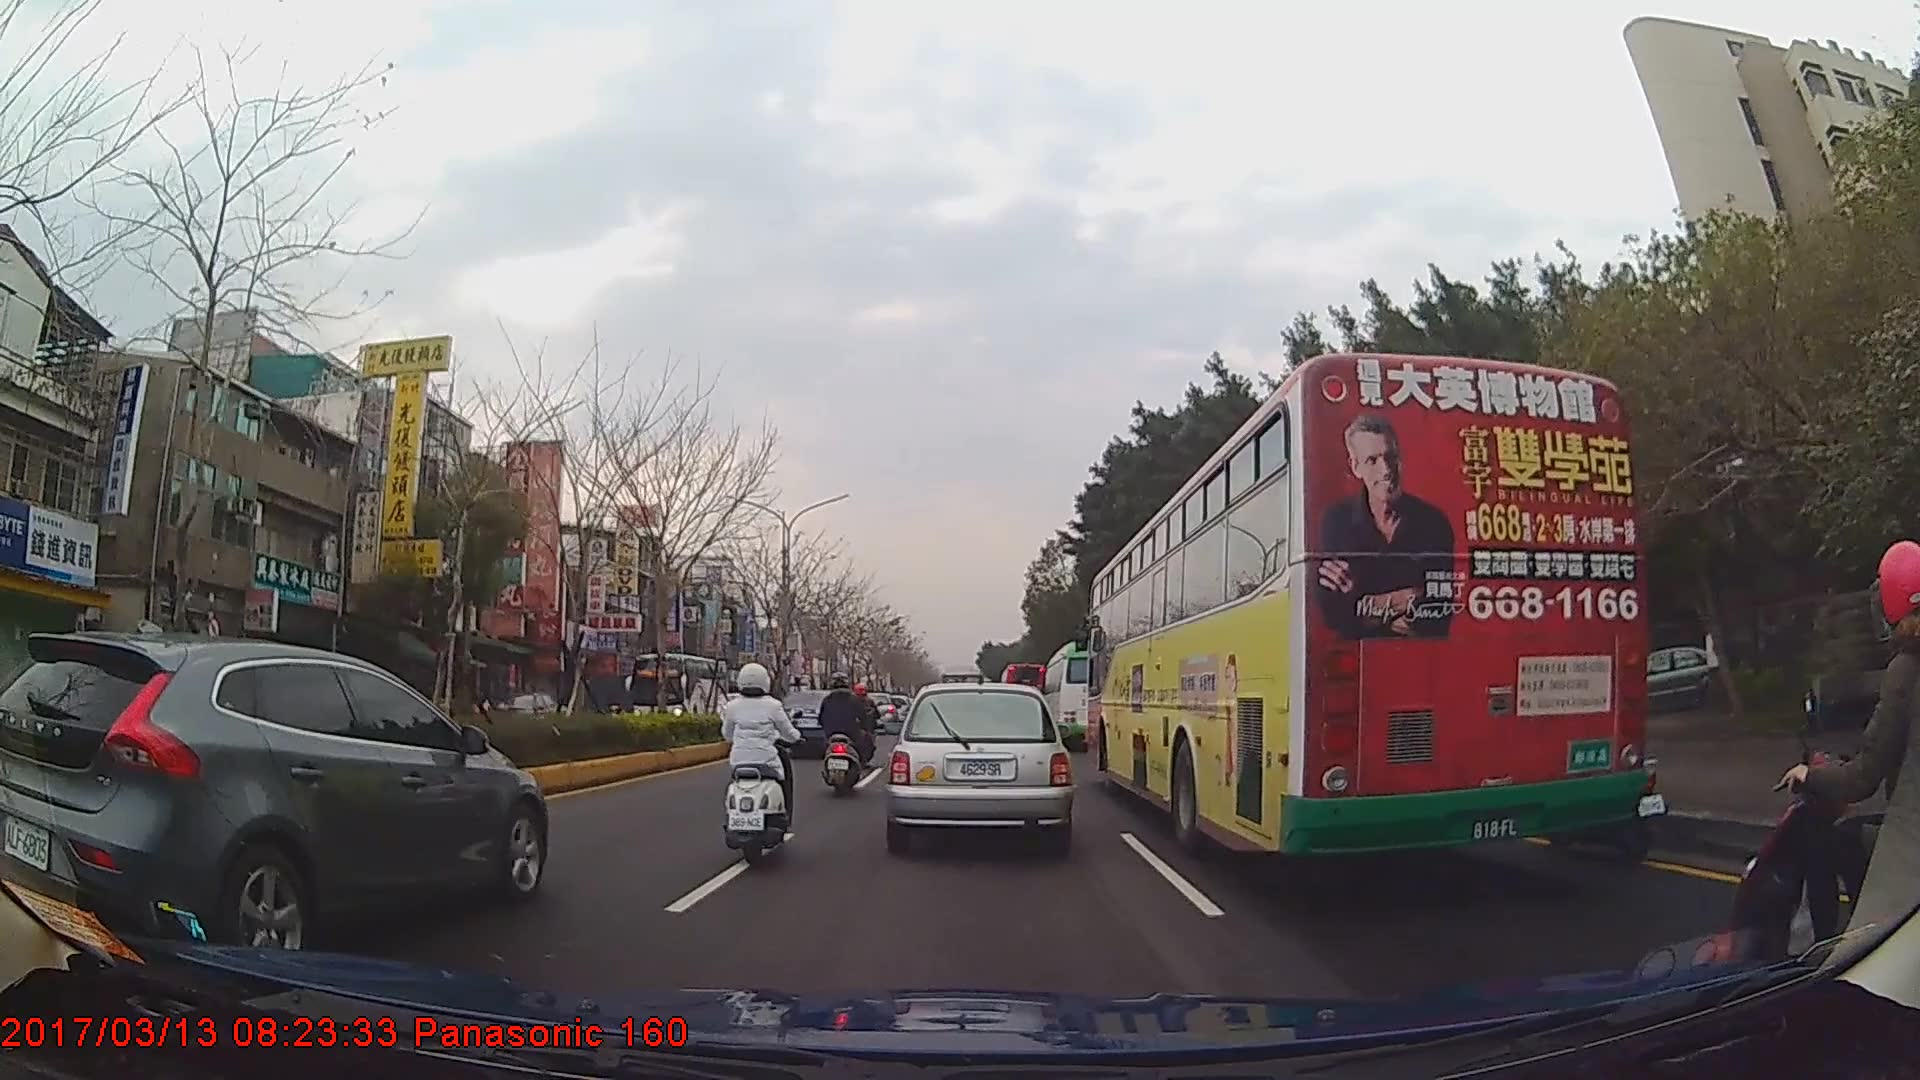rider: (1731, 541, 1920, 1004), (717, 659, 801, 863), (815, 675, 870, 797), (848, 679, 882, 767)
vehicle: (1089, 350, 1650, 863), (0, 630, 548, 968), (887, 679, 1071, 853), (1040, 639, 1119, 748), (626, 651, 728, 733), (774, 690, 868, 762), (483, 689, 567, 737), (1000, 655, 1048, 727)
